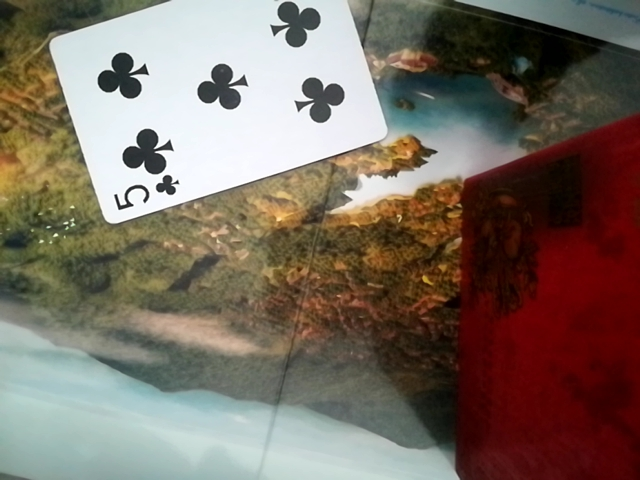mh 5: (44, 0, 386, 228)
